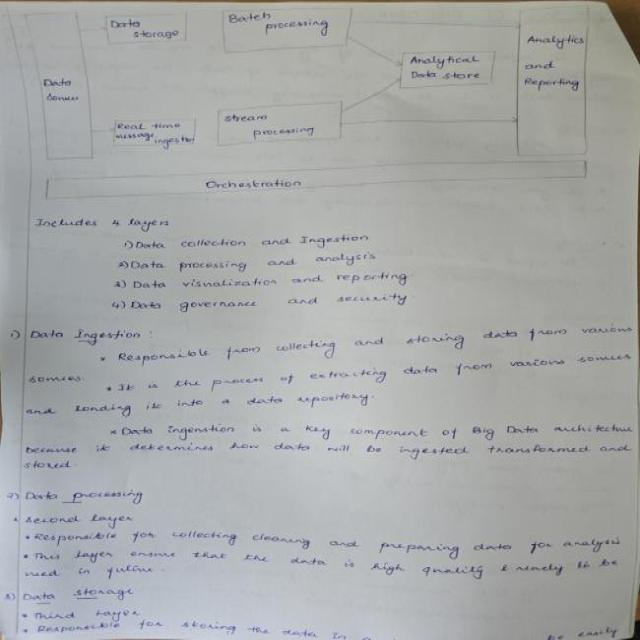Figure Detection - v3 Dataset Version2: (5, 0, 606, 209)
